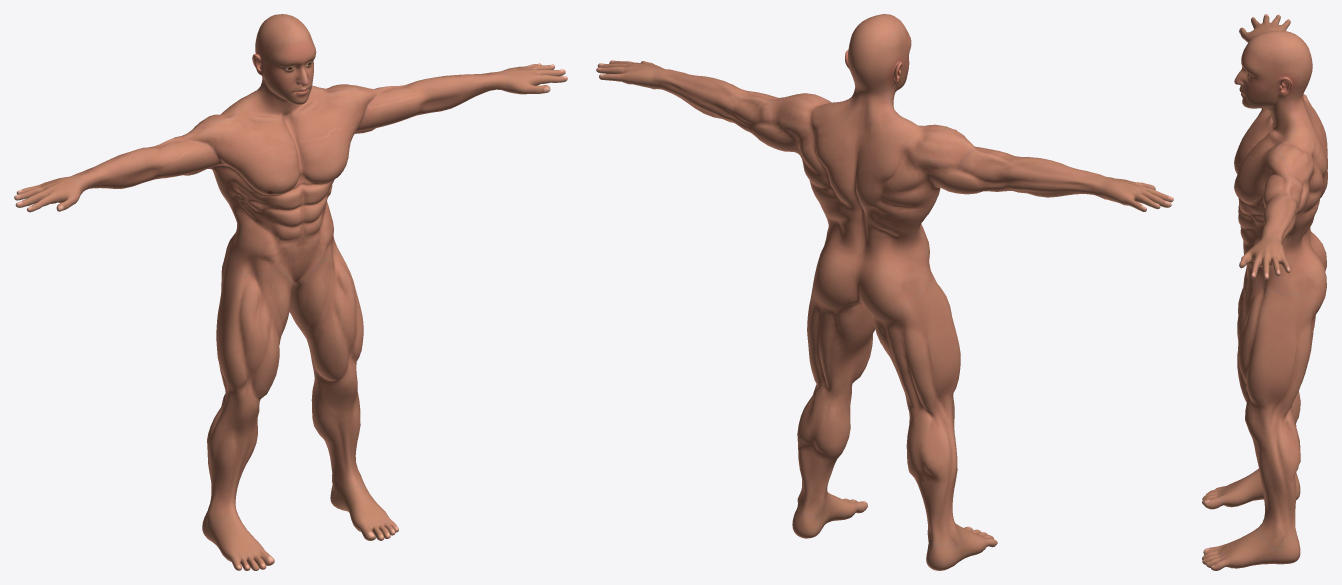
The model's file is anatomy-transformed.glb.
3 renders of one model, left to right at view 1: azimuth 30°, elevation 25°; view 2: azimuth 150°, elevation 25°; view 3: azimuth 270°, elevation 25°, orthographic. The views are drawn at different scales.
Parts seen in each view (by area): view 1: body_low__Body_Low_SP_blinn1SG1_0; view 2: body_low__Body_Low_SP_blinn1SG1_0; view 3: body_low__Body_Low_SP_blinn1SG1_0.
Part boxes in pixels (box(x1,y1,x2,y2)): body_low__Body_Low_SP_blinn1SG1_0: box(14, 14, 567, 570); body_low__Body_Low_SP_blinn1SG1_0: box(596, 14, 1173, 570); body_low__Body_Low_SP_blinn1SG1_0: box(1202, 14, 1327, 570).
Size of the model in its own units: 0.1994 by 0.1771 by 0.0404.
3 materials, 2 textured.
